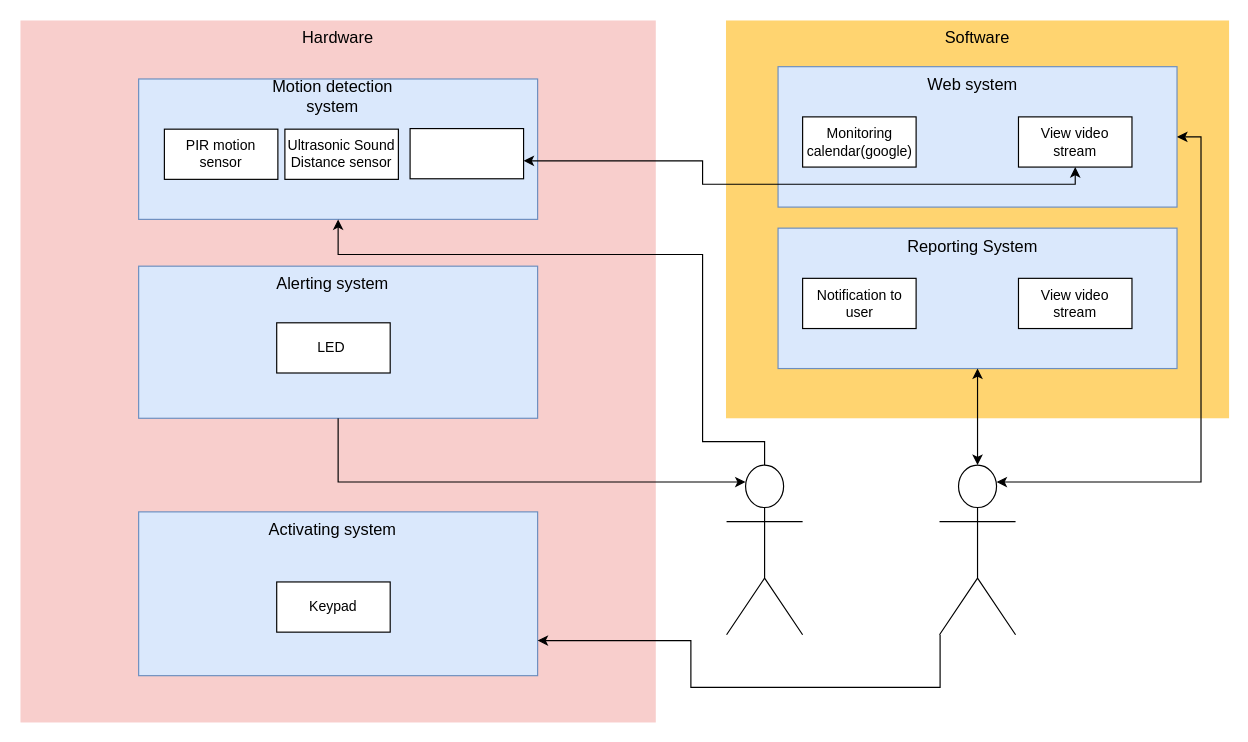
This 1248x742 diagram has some shape labels left out. Here are the shapes that lost their labels. From the top down, the centre of each, then its label:
At (466,153): "Video Camera".
At (764,549): "Intruder".
At (977,549): "Owner".
